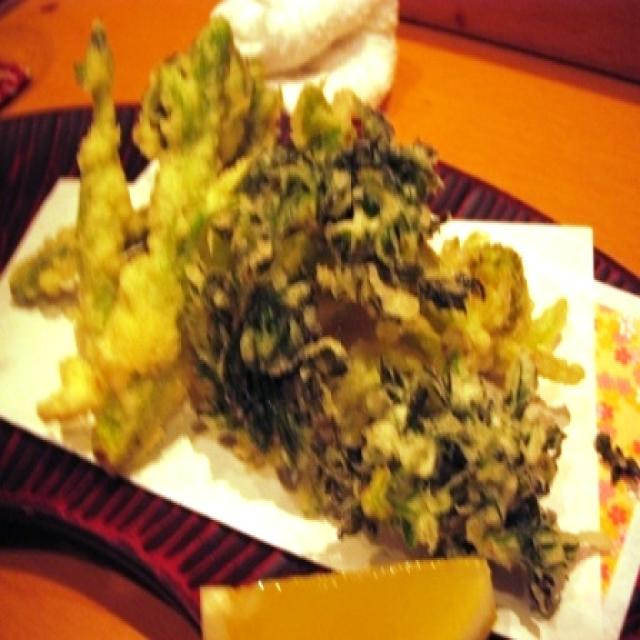蔬菜料理: (4, 23, 584, 632)
